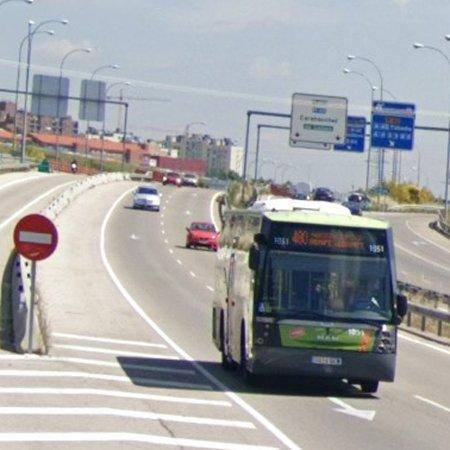buses: (213, 199, 408, 393)
